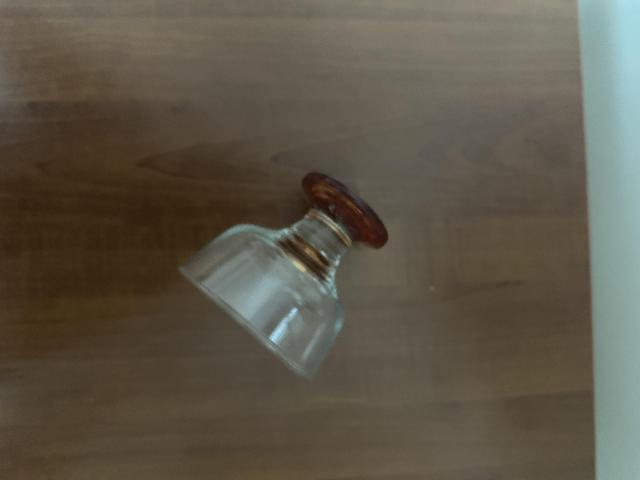Cam: (175, 170, 387, 376)
